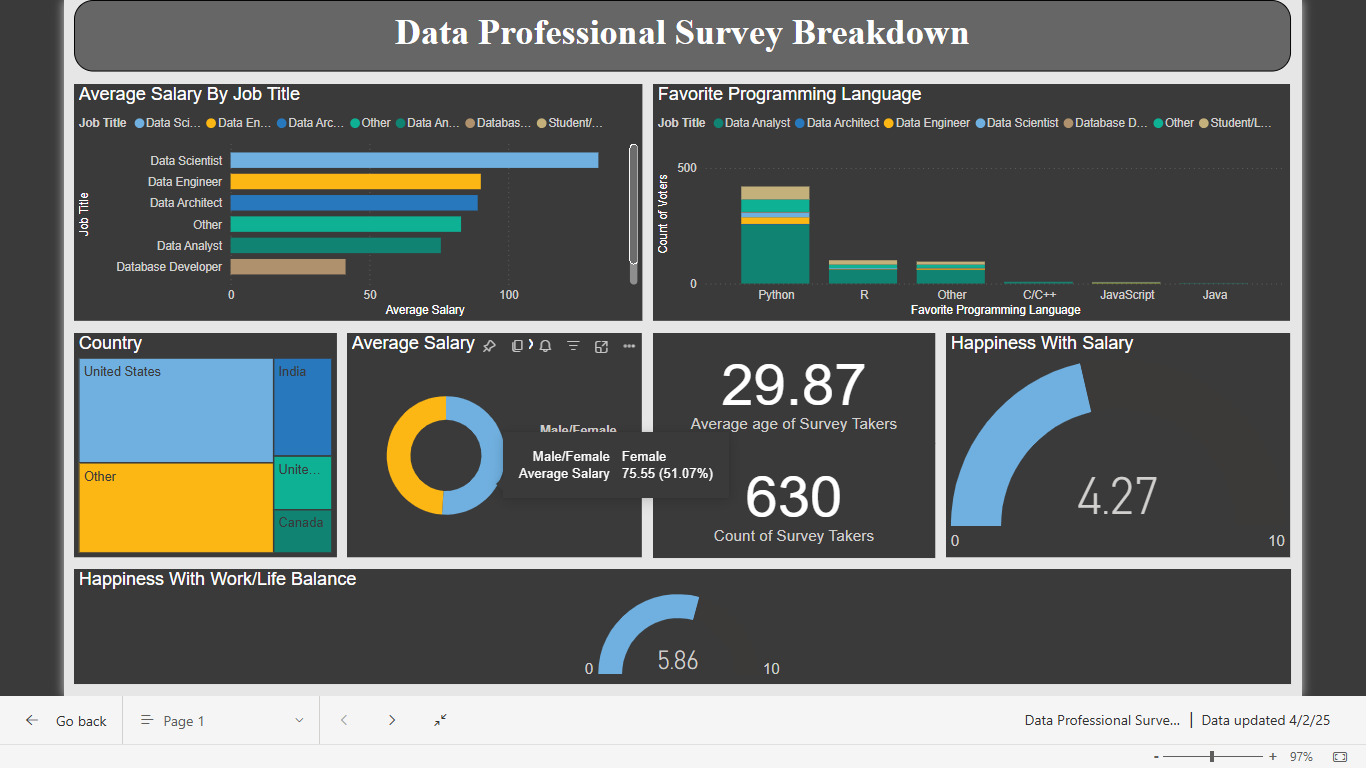

The page's visual inventory and layout, read from the dashboard file:
{"tool":"powerbi","page":{"name":"Professional Survey","canvas":[1280,720],"ordinal":0},"visuals":[{"type":"textbox","box":[10,0,1258.6,74.1],"z":0},{"type":"card","fields":{"Values":["CountNonNull(Data Professional Survey.Unique ID)"]},"box":[609.5,458,291.6,118.6],"z":1000},{"type":"card","fields":{"Values":["Avg(Data Professional Survey.Q10 - Current Age)"]},"box":[609.5,344.3,291.6,113.7],"z":2000},{"type":"barChart","title":"Average Salary By Job Title","fields":{"Category":["Data Professional Survey.Q1 - Which Title Best Fits your Current Role?.1"],"Y":["Avg(Data Professional Survey.Average Salary)"],"Series":["Data Professional Survey.Q1 - Which Title Best Fits your Current Role?.1"]},"box":[9.6,87.9,588.1,244.5],"z":3000},{"type":"columnChart","title":"Favorite Programming Language","fields":{"Category":["Data Professional Survey.Q5 - Favorite Programming Language.1"],"Y":["CountNonNull(Data Professional Survey.Unique ID)"],"Series":["Data Professional Survey.Q1 - Which Title Best Fits your Current Role?.1"]},"box":[609.5,87.3,658.9,245.5],"z":4000},{"type":"treemap","title":"Country","fields":{"Group":["Data Professional Survey.Q11 - Which Country do you live in?.1"],"Values":["CountNonNull(Data Professional Survey.Q11 - Which Country do you live in?.1)"]},"box":[9.9,344.3,271.8,232.3],"z":5000},{"type":"gauge","title":"Happiness With Work/Life Balance","fields":{"Y":["Avg(Data Professional Survey.Q6 - How Happy are you in your Current Position with the following? (Coworkers))"],"MinValue":["Min(Data Professional Survey.Q6 - How Happy are you in your Current Position with the following? (Coworkers))"],"MaxValue":["Max(Data Professional Survey.Q6 - How Happy are you in your Current Position with the following? (Coworkers))"]},"box":[9.9,588.1,1258.6,118.6],"z":6000},{"type":"gauge","title":"Happiness With Salary","fields":{"Y":["Avg(Data Professional Survey.Q6 - How Happy are you in your Current Position with the following? (Salary))"],"MinValue":["Min(Data Professional Survey.Q6 - How Happy are you in your Current Position with the following? (Salary))"],"MaxValue":["Max(Data Professional Survey.Q6 - How Happy are you in your Current Position with the following? (Salary))"]},"box":[912.6,344.3,355.8,232.3],"z":7000},{"type":"donutChart","title":"Average Salary By Sex","fields":{"Category":["Data Professional Survey.Q9 - Male/Female?"],"Y":["Avg(Data Professional Survey.Average Salary)"]},"box":[293.2,344.3,304.8,232.3],"z":8000}]}

Visuals, with their boxes on the page's 1280x720 design canvas (x1, y1, x2, y2). These are canvas units, not pixel positions in the 1366x768 screenshot, which may show the page scaled, cropped or inside an application window:
textbox: 10:0:1269:74
card - CountNonNull(Data Professional Survey.Unique ID): 610:458:901:577
card - Avg(Data Professional Survey.Q10 - Current Age): 610:344:901:458
"Average Salary By Job Title" barChart: 10:88:598:332
"Favorite Programming Language" columnChart: 610:87:1268:333
"Country" treemap: 10:344:282:577
"Happiness With Work/Life Balance" gauge: 10:588:1268:707
"Happiness With Salary" gauge: 913:344:1268:577
"Average Salary By Sex" donutChart: 293:344:598:577
